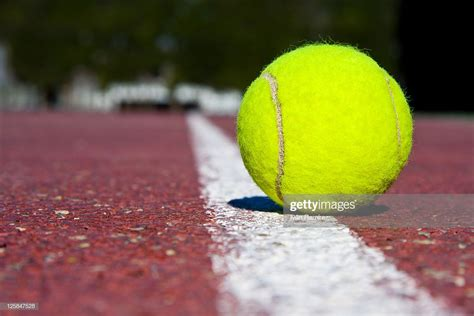tennis_ball: (236, 42, 414, 214)
